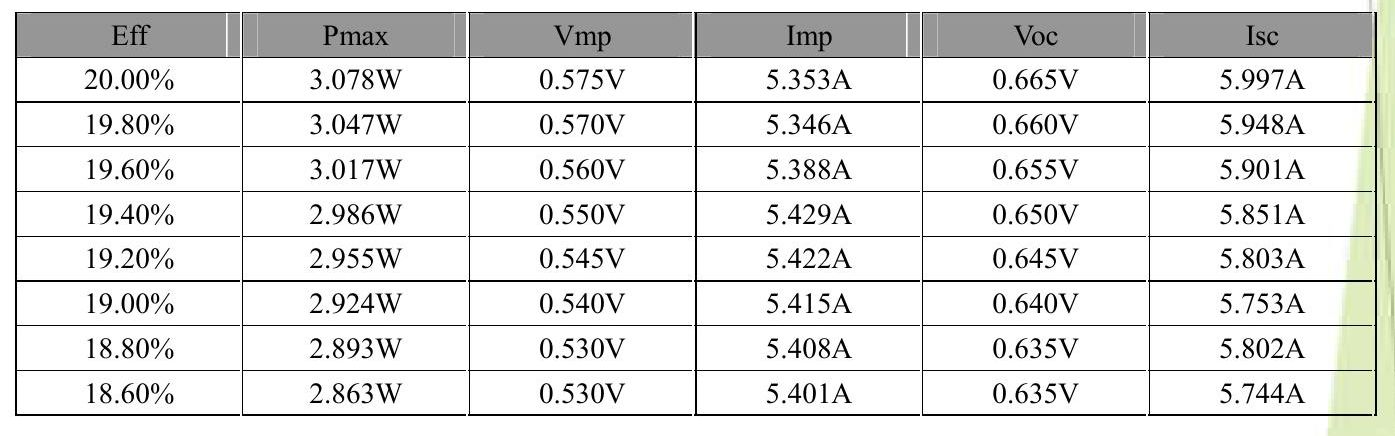table: (7, 5, 1386, 425)
table column: (702, 14, 917, 420), (477, 14, 689, 420), (252, 13, 462, 421), (1157, 14, 1367, 418), (936, 13, 1142, 420), (32, 13, 235, 420)
table column header: (20, 16, 1374, 56)
table row: (20, 374, 1373, 412), (20, 240, 1374, 277), (20, 284, 1374, 321), (20, 149, 1371, 186), (20, 107, 1373, 143), (20, 329, 1371, 365), (21, 17, 1368, 53), (20, 63, 1372, 98), (20, 196, 1372, 231)
